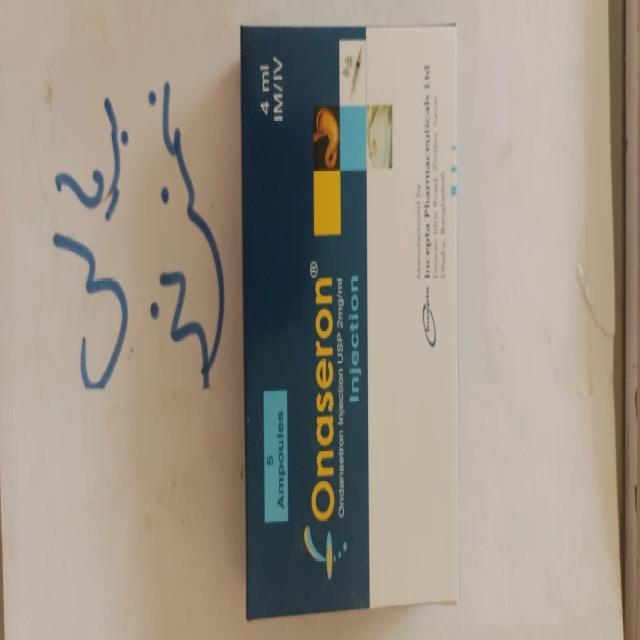drug-name: (310, 272, 337, 520)
